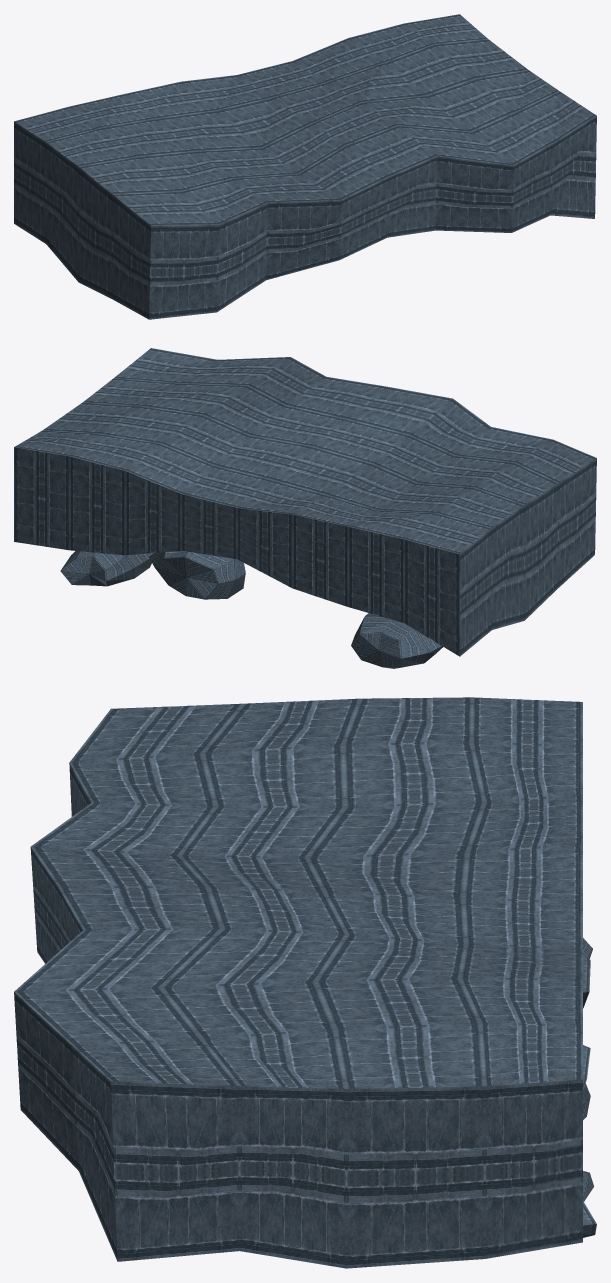
File: rv_canyon_wall_16m.obj
3 views of the same model, one above another, from view 1: azimuth 30°, elevation 25°; view 2: azimuth 150°, elevation 25°; view 3: azimuth 270°, elevation 25° (orthographic). The views are drawn at different scales.
Parts seen in each view (by area): view 1: rv_canyon_wall_16m; view 2: rv_canyon_wall_16m; view 3: rv_canyon_wall_16m.
Boxes of the visible parts, left/top/right/bottom form: rv_canyon_wall_16m: left=14, top=14, right=596, bottom=319; rv_canyon_wall_16m: left=14, top=348, right=596, bottom=668; rv_canyon_wall_16m: left=14, top=697, right=596, bottom=1268.
Size of the model in its own units: 16 by 5.13 by 10.52.
1 material, 1 textured.
